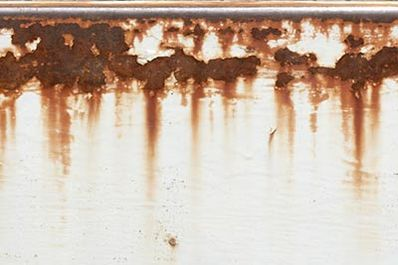Severe: (2, 11, 397, 131)
